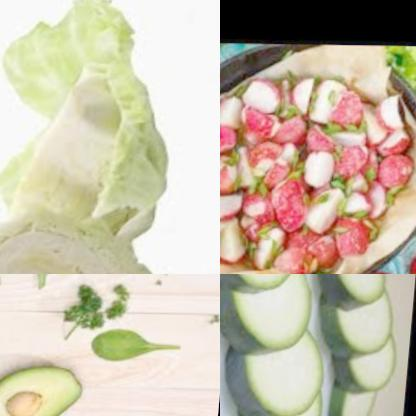avocado: (0, 357, 91, 416)
cabbage: (0, 0, 191, 216), (0, 208, 201, 274)
rediska: (220, 90, 279, 273), (360, 86, 416, 198), (241, 67, 340, 115), (305, 185, 353, 236), (249, 219, 289, 274), (304, 142, 341, 189), (348, 171, 371, 217)
salad: (368, 44, 416, 105)
vegetable marrow: (220, 325, 336, 416), (220, 274, 324, 362), (326, 284, 403, 366), (339, 335, 413, 396), (236, 388, 338, 416), (321, 274, 396, 312), (330, 381, 399, 416)
